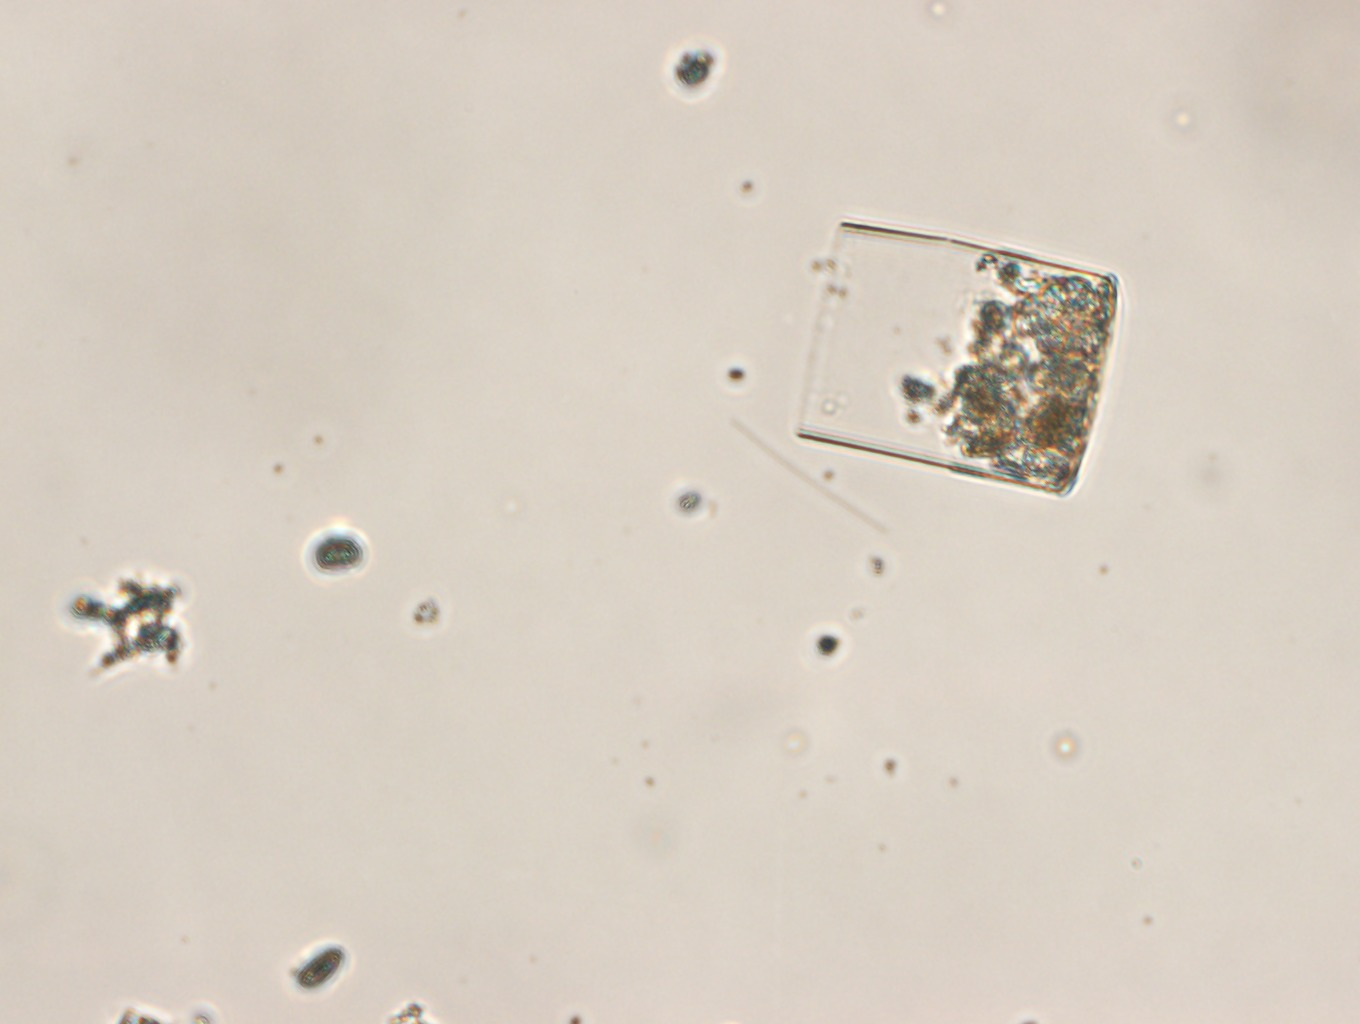guinardia flaccida: (794, 217, 1123, 499)
